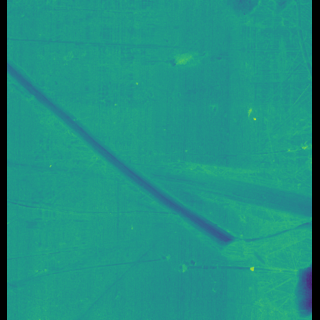Loch: (14, 35, 258, 268), (234, 0, 304, 320), (145, 154, 305, 230), (11, 252, 170, 295), (161, 40, 205, 75)
